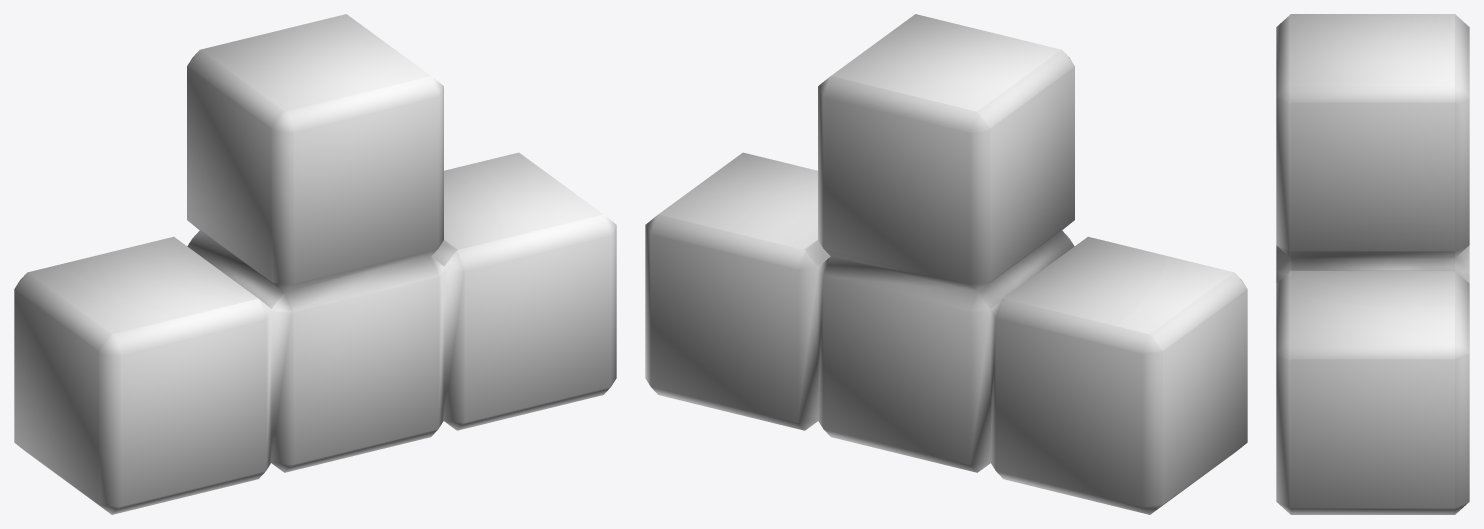
3 views of the same model, side by side, from view 1: azimuth 30°, elevation 25°; view 2: azimuth 150°, elevation 25°; view 3: azimuth 270°, elevation 25° (orthographic). The views are drawn at different scales.
Visible parts, largest first — view 1: T-shape; view 2: T-shape; view 3: T-shape.
Boxes of the visible parts, x1,y1,x2,y2 form: T-shape: (14,14,616,514); T-shape: (645,14,1247,514); T-shape: (1276,14,1469,514).
Bounding box in the file's own units: 3 × 2 × 1.
